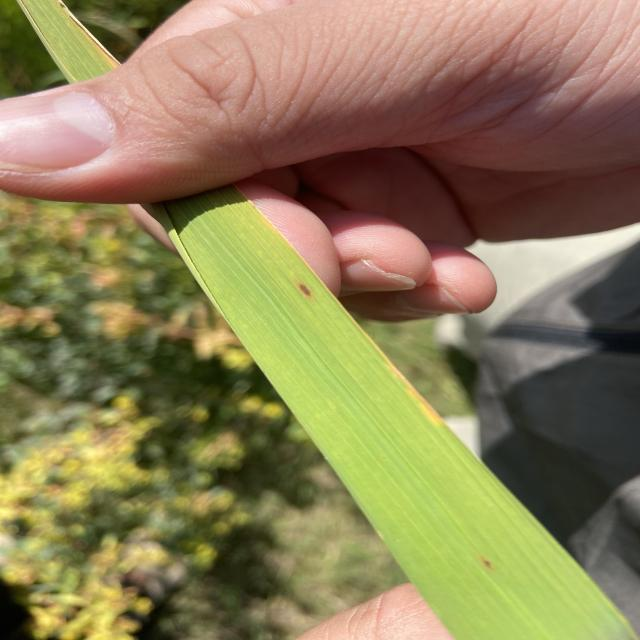Dom nau: (299, 283, 311, 296), (482, 559, 491, 568)
